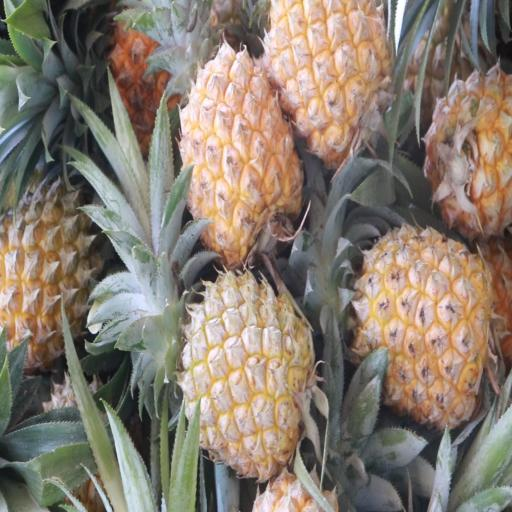------------------------------: (0, 183, 98, 361)
Pineapple - v8 v1: (359, 226, 493, 428), (182, 273, 314, 474), (180, 46, 304, 258), (267, 1, 390, 154), (428, 68, 512, 235)
